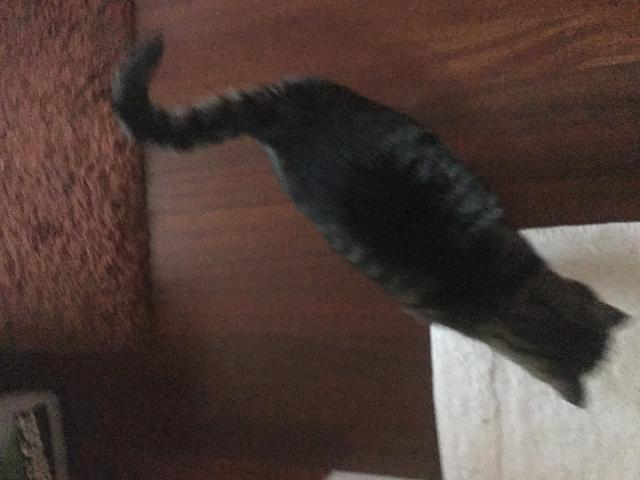playdoh: (114, 33, 635, 414)
